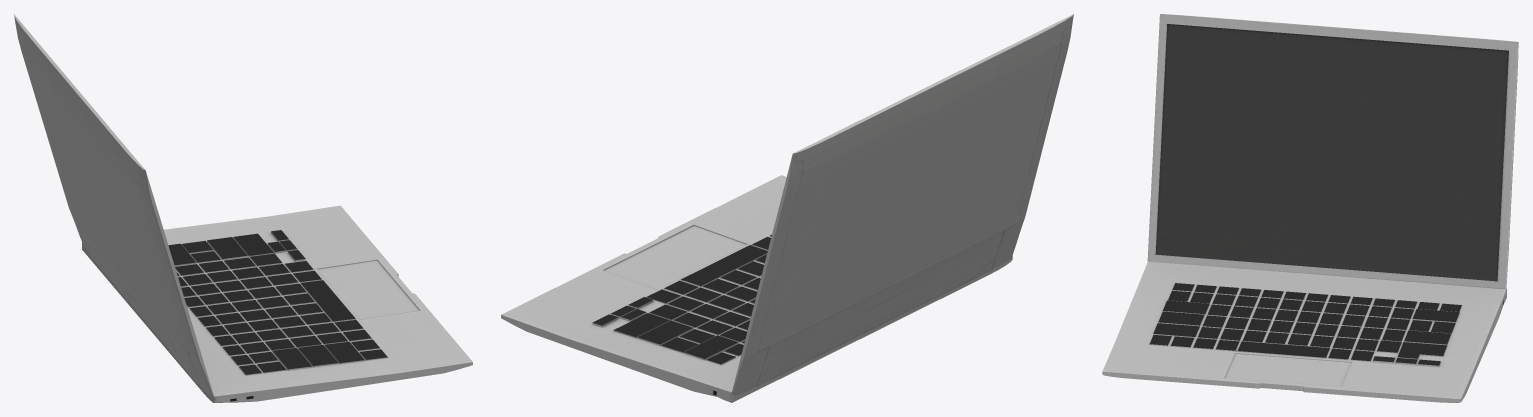
The model's file is macbook.glb.
The picture shows the model from 3 angles, left to right: view 1: azimuth 30°, elevation 25°; view 2: azimuth 150°, elevation 25°; view 3: azimuth 270°, elevation 25°; orthographic projection. The views are drawn at different scales.
Parts seen in each view (by area): view 1: Macbook; view 2: Macbook; view 3: Macbook.
Boxes of the visible parts, x1=… form: Macbook: x1=14, y1=14, x2=472, y2=402; Macbook: x1=501, y1=14, x2=1073, y2=402; Macbook: x1=1102, y1=14, x2=1518, y2=402.
Size of the model in its own units: 0.3193 by 0.2134 by 0.3471.
Materials: 3 (3 with a texture image).
